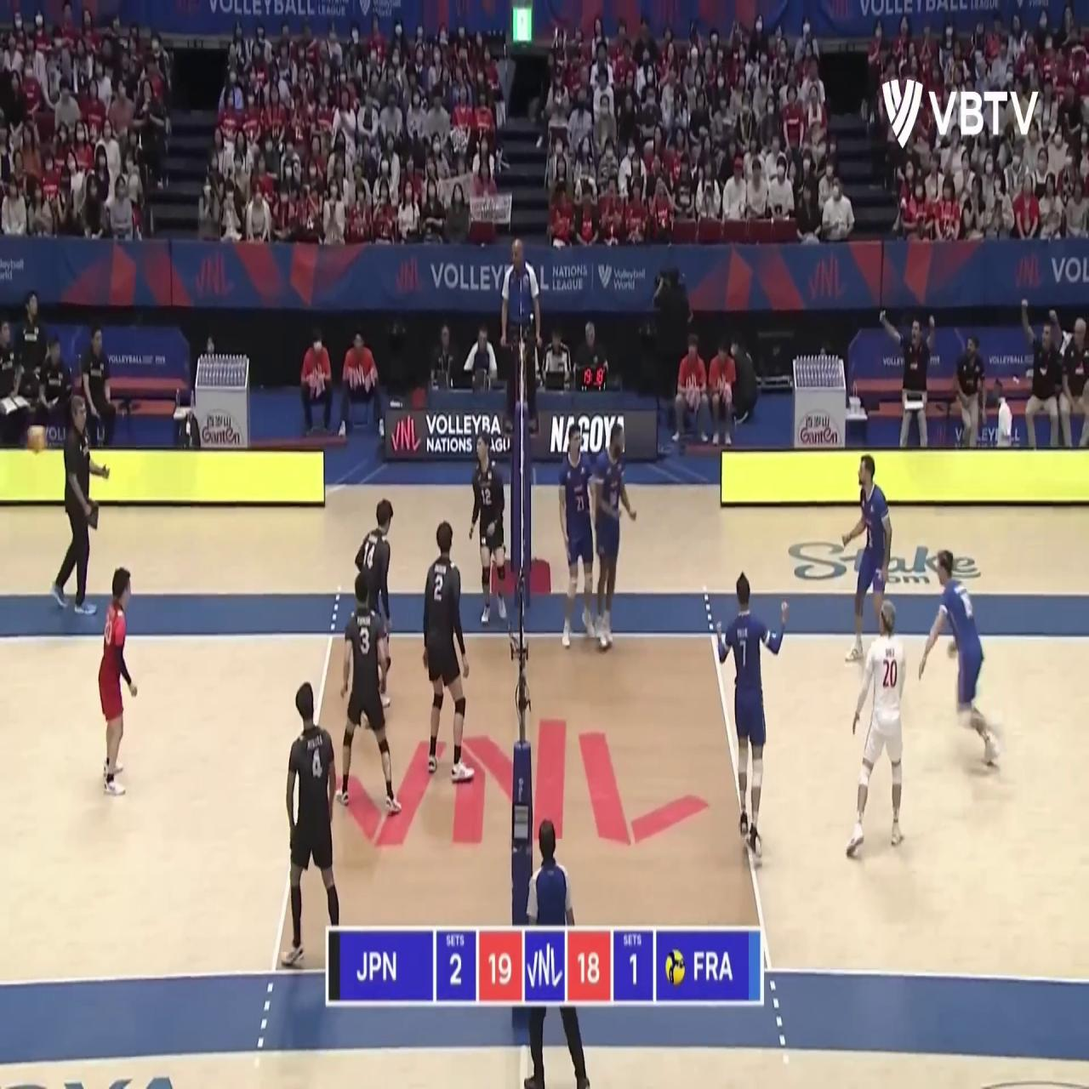ball: (26, 422, 46, 456)
